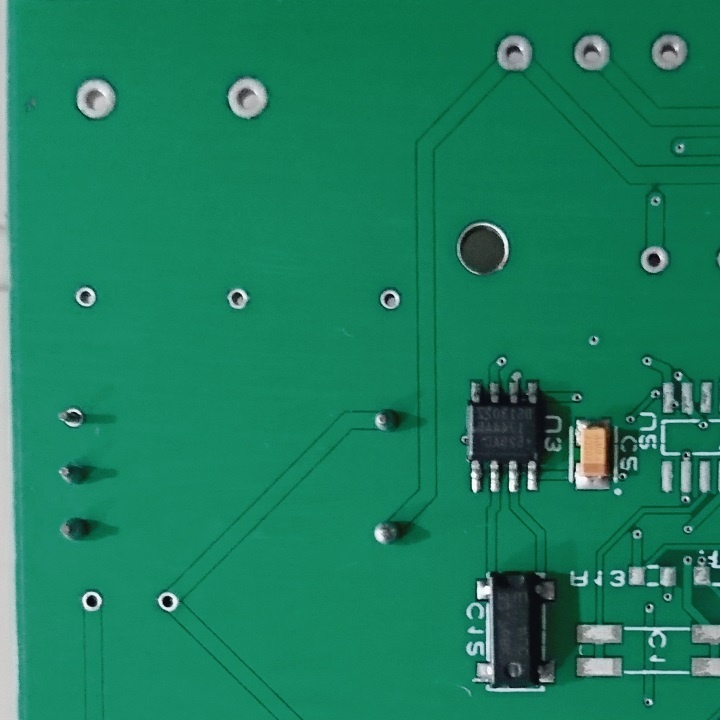F: (72, 74, 121, 123), (224, 75, 273, 124), (493, 30, 539, 78), (570, 29, 615, 78), (648, 32, 690, 75), (638, 243, 673, 276), (52, 404, 90, 434), (223, 280, 253, 312), (77, 586, 106, 617), (71, 283, 99, 310), (156, 586, 181, 615), (379, 287, 404, 313)
